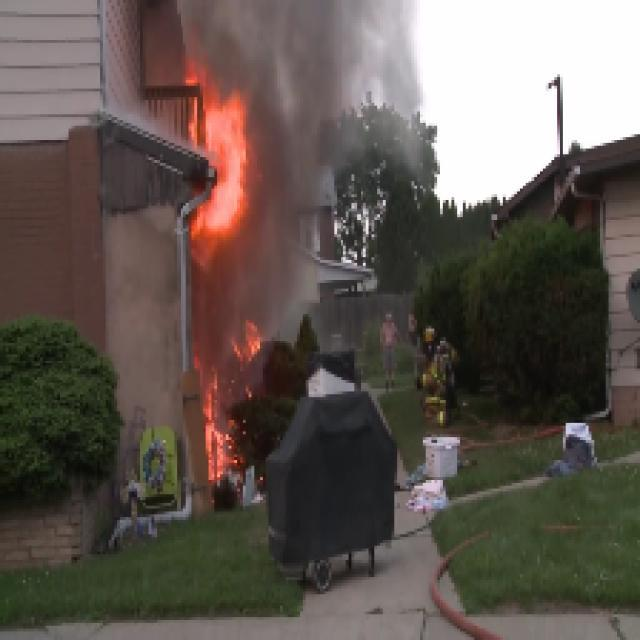Fire: (163, 54, 363, 529)
Smoke: (200, 0, 488, 271)
